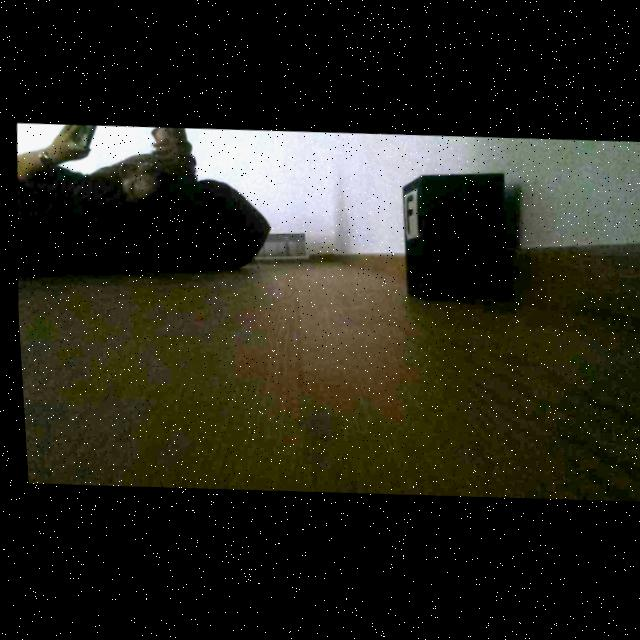F: (404, 198, 412, 236)
